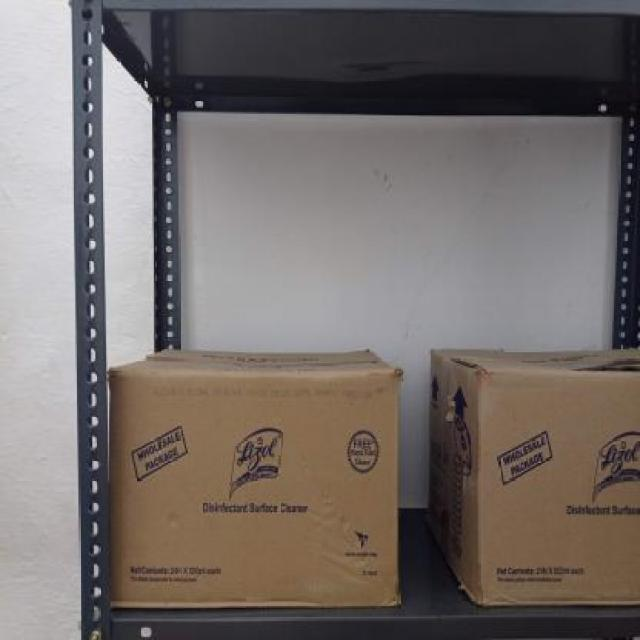box: (106, 367, 400, 609), (480, 369, 635, 602)
